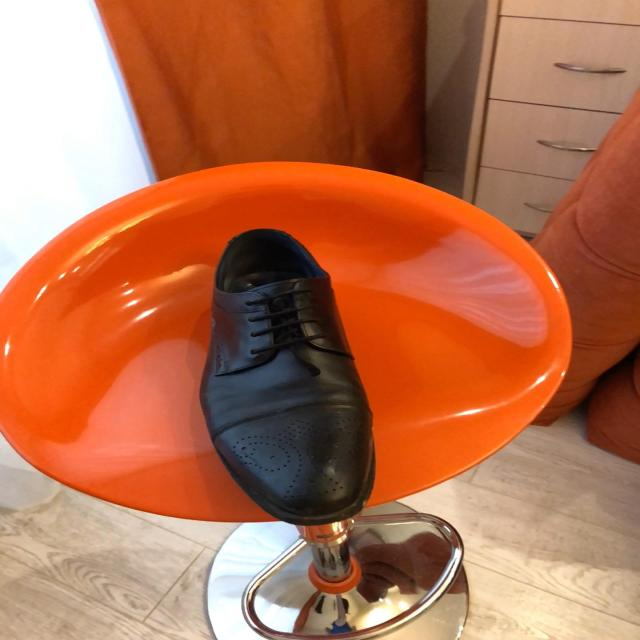shoe: (201, 229, 377, 529)
